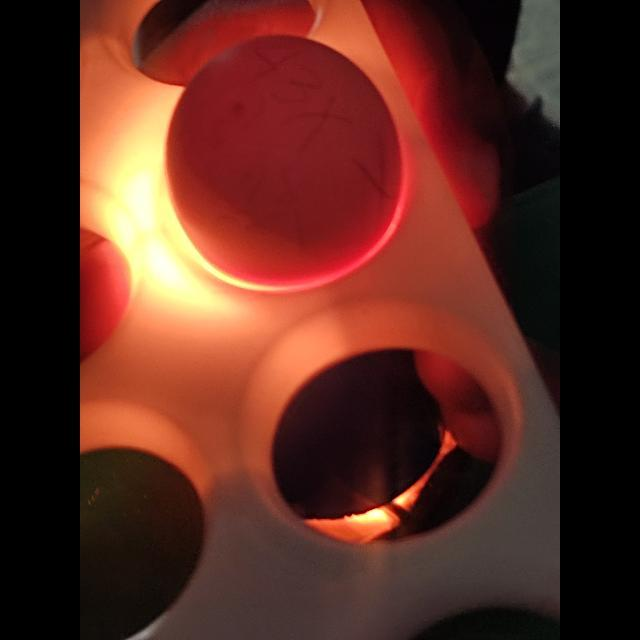Fertile: (160, 36, 404, 290)
